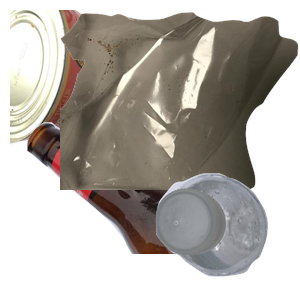glass: (25, 120, 265, 300)
metal: (10, 10, 159, 152)
plastic: (153, 170, 300, 300)
trash: (60, 10, 300, 190)
